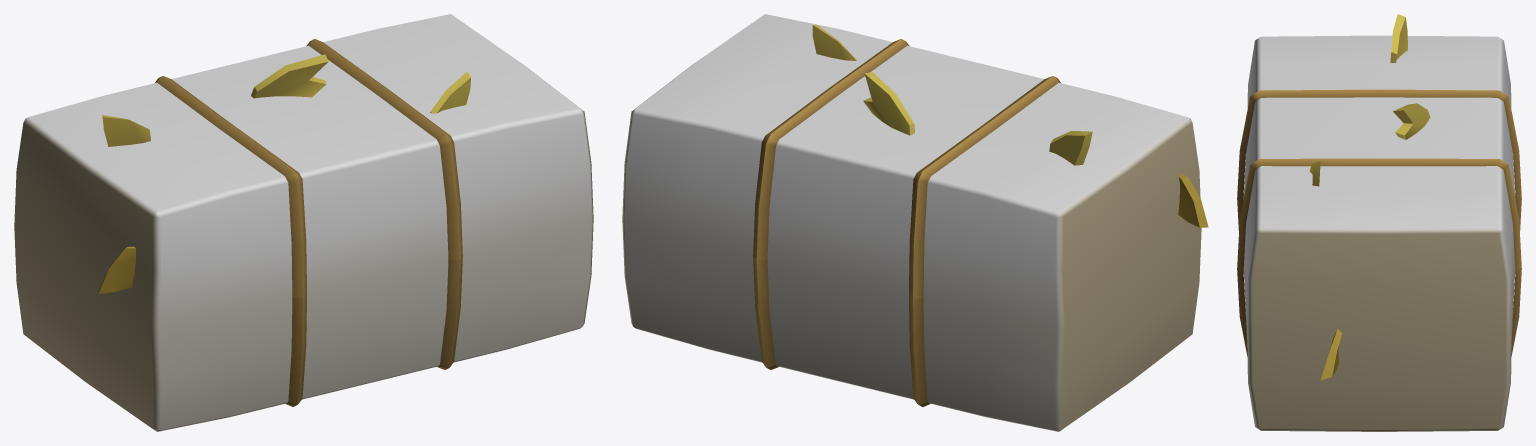
Rendered from HayBales.fbx.
3 views of the same model, side by side, from view 1: azimuth 30°, elevation 25°; view 2: azimuth 150°, elevation 25°; view 3: azimuth 270°, elevation 25° (orthographic). The views are drawn at different scales.
Parts seen in each view (by area): view 1: HayBale; view 2: HayBale; view 3: HayBale.
Boxes of the visible parts, x1=… form: HayBale: x1=14, y1=14, x2=593, y2=431; HayBale: x1=622, y1=14, x2=1208, y2=431; HayBale: x1=1237, y1=14, x2=1521, y2=431.
Size of the model in its own units: 132 by 67.25 by 69.74.
